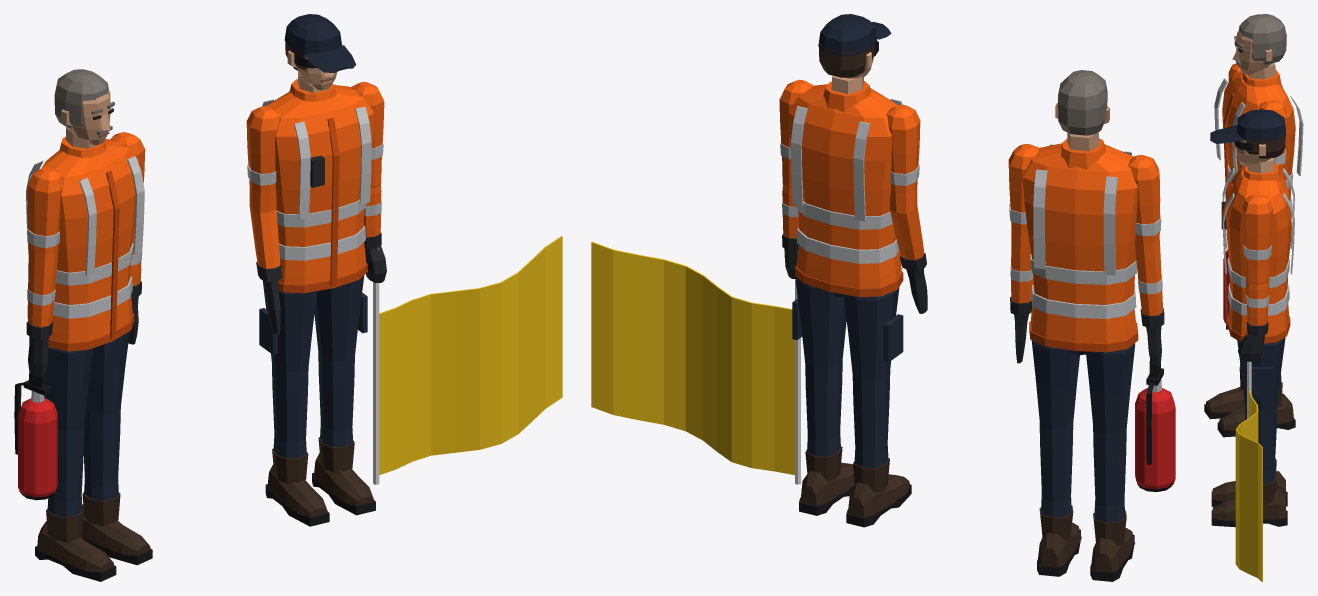
File: marshal.glb
The picture shows the model from 3 angles, left to right: view 1: azimuth 30°, elevation 25°; view 2: azimuth 150°, elevation 25°; view 3: azimuth 270°, elevation 25°; orthographic projection. The views are drawn at different scales.
Visible parts, largest first — view 1: Mate, Body, Flag, Forearm, Arm; view 2: Mate, Body, Flag, Forearm, Arm; view 3: Body, Mate, Flag, Arm, Forearm.
Part boxes in pixels (bbox=[...]): Mate: bbox=[14, 69, 152, 581]; Body: bbox=[246, 14, 375, 526]; Flag: bbox=[379, 236, 562, 475]; Forearm: bbox=[364, 185, 386, 484]; Arm: bbox=[351, 82, 384, 188]; Mate: bbox=[1008, 70, 1175, 581]; Body: bbox=[788, 14, 927, 527]; Flag: bbox=[591, 241, 794, 474]; Forearm: bbox=[782, 185, 800, 484]; Arm: bbox=[779, 79, 813, 188]; Body: bbox=[1210, 109, 1294, 527]; Mate: bbox=[1204, 14, 1303, 437]; Flag: bbox=[1235, 390, 1262, 581]; Arm: bbox=[1242, 194, 1273, 284]; Forearm: bbox=[1238, 280, 1269, 418].
Size of the model in its own units: 2.17 by 1.79 by 0.4013.
